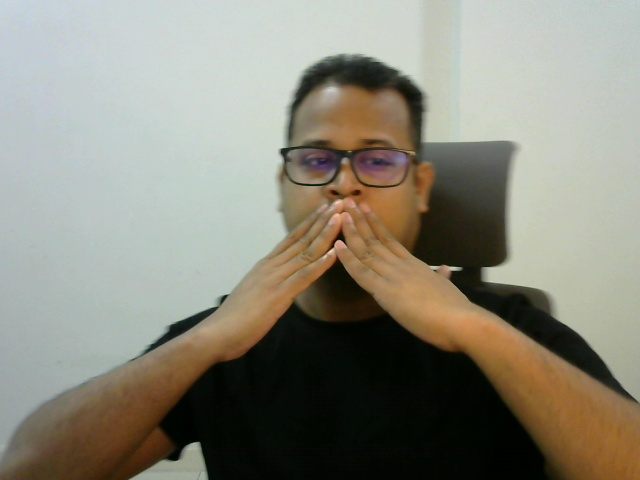ThankYou: (222, 199, 463, 359)
